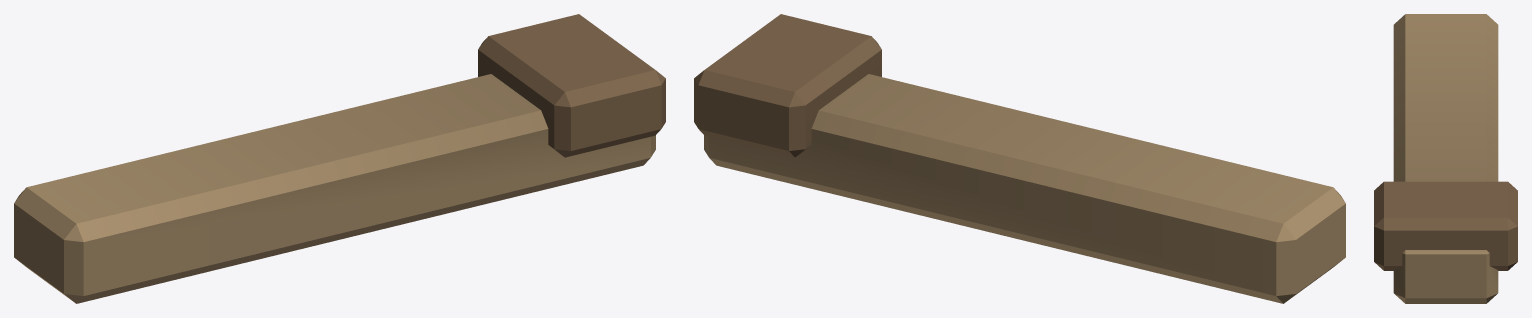
The model's file is wood_brace.glb.
3 views of the same model, side by side, from view 1: azimuth 30°, elevation 25°; view 2: azimuth 150°, elevation 25°; view 3: azimuth 270°, elevation 25° (orthographic). The views are drawn at different scales.
Parts seen in each view (by area): view 1: wood_brace; view 2: wood_brace; view 3: wood_brace.
Part boxes in pixels (<box>): wood_brace: <box>14,14,665,303</box>; wood_brace: <box>694,14,1345,303</box>; wood_brace: <box>1374,14,1517,303</box>.
Bounding box in the file's own units: 0.85 × 0.145 × 0.22.
